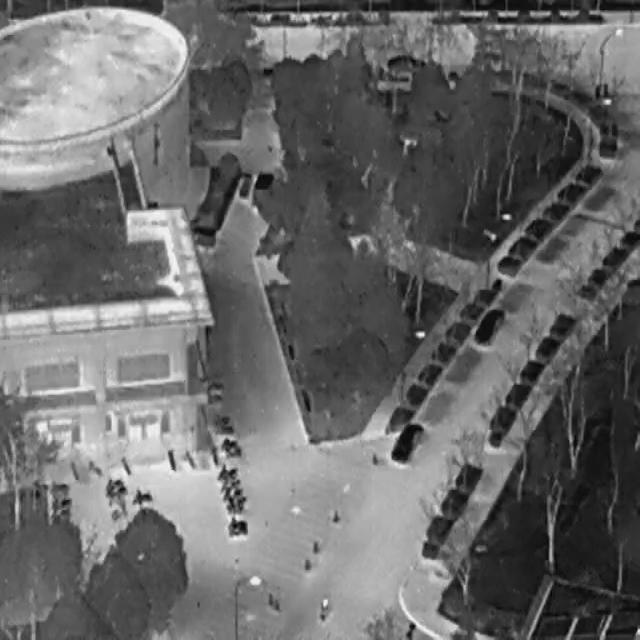Bicycle: (102, 482, 129, 508), (129, 482, 154, 508), (46, 502, 73, 526), (106, 498, 130, 524), (100, 471, 124, 494), (162, 444, 179, 474), (180, 444, 198, 471), (217, 462, 239, 482), (315, 594, 330, 622), (84, 457, 104, 478), (49, 476, 71, 495), (117, 452, 133, 477), (223, 485, 243, 504), (220, 475, 240, 493), (48, 495, 72, 510), (67, 458, 81, 482), (227, 526, 248, 538), (224, 503, 244, 515), (206, 379, 225, 390), (224, 496, 247, 505), (227, 518, 248, 526), (207, 390, 221, 402), (216, 462, 225, 478)
Car: (385, 411, 426, 471), (468, 296, 507, 352)
OtherVehicle: (245, 164, 276, 211)
